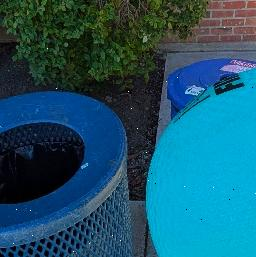algae: (146, 62, 256, 257)
